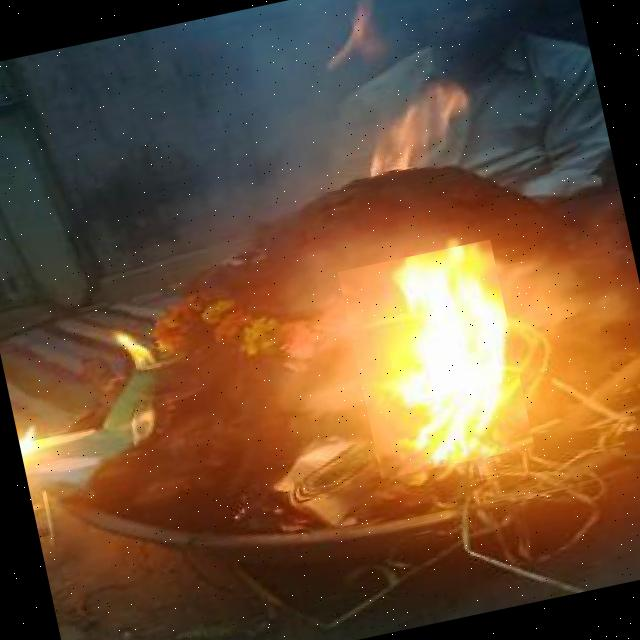fire: (337, 239, 534, 479)
